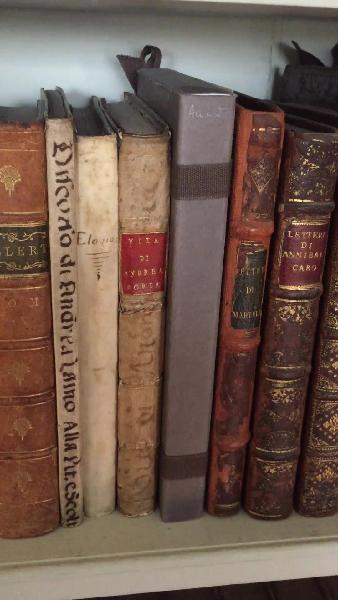Aa6-24: (41, 112, 89, 529)
Aa6-25: (75, 128, 125, 513)
Aa6-26: (119, 133, 167, 507)
Aa6-27: (171, 66, 226, 518)
Aa6-28: (204, 97, 275, 507)
Aa6-29: (251, 116, 328, 541)
